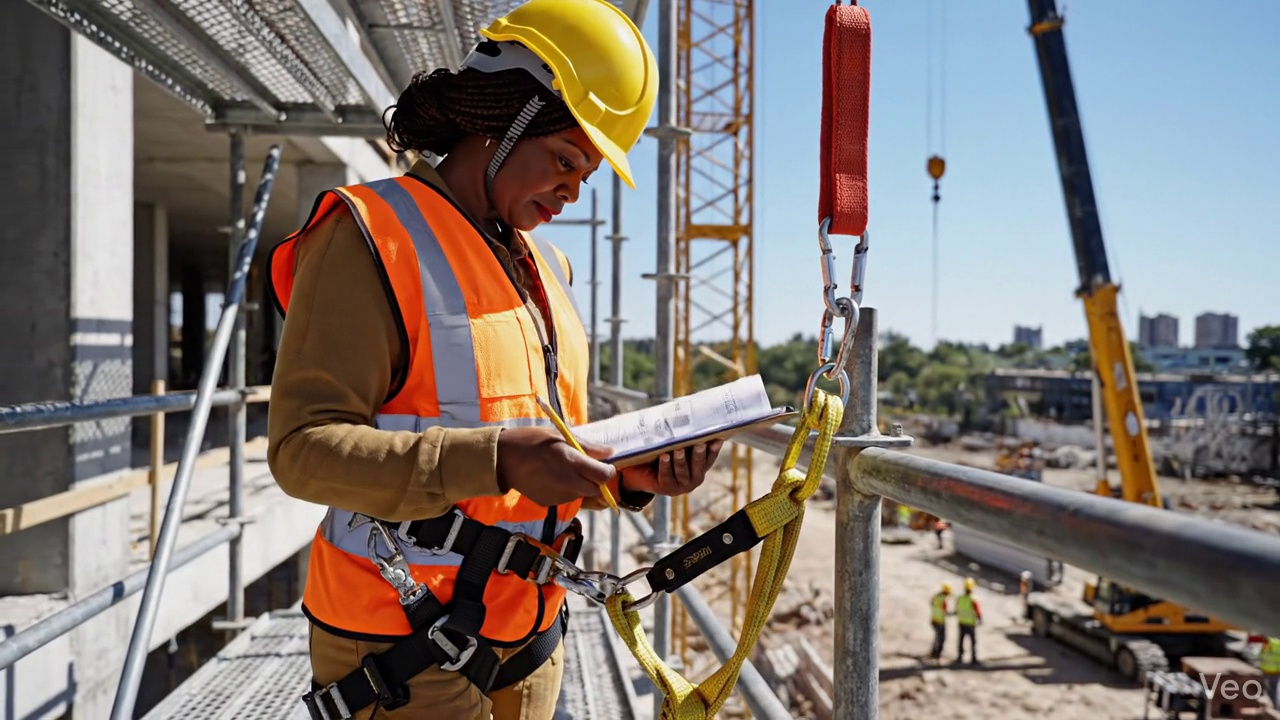p: (268, 0, 720, 719), (600, 452, 605, 455)
